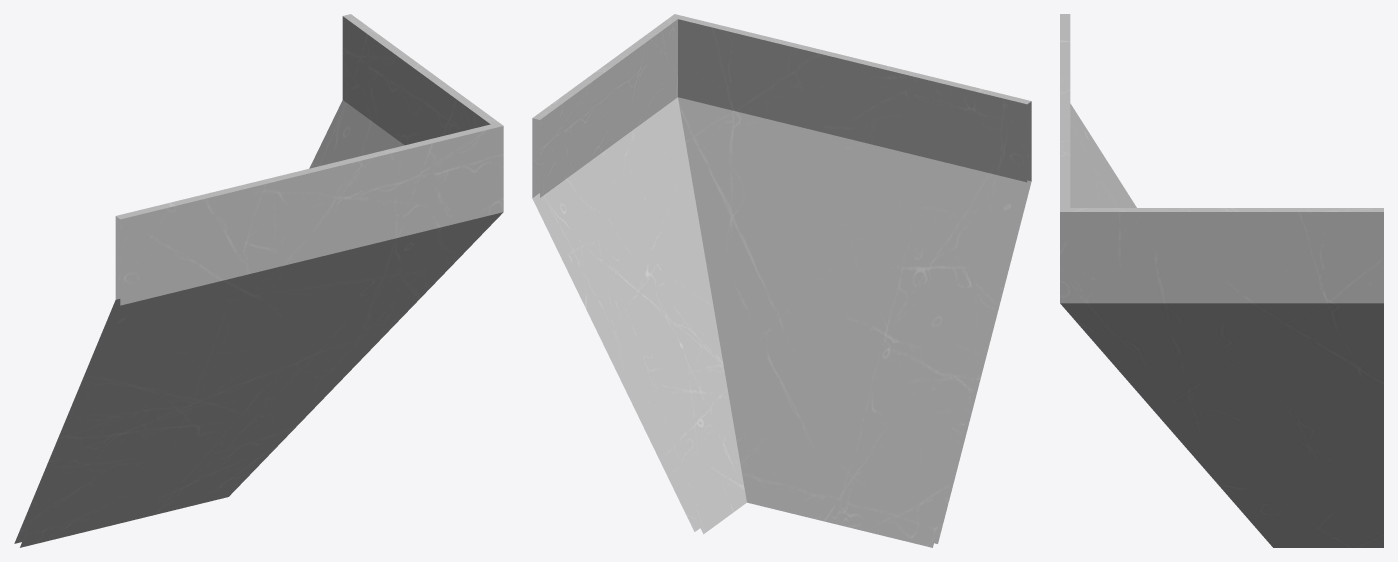
File: TightenerStation_Cube09.glb
3 views of the same model, side by side, from view 1: azimuth 30°, elevation 25°; view 2: azimuth 150°, elevation 25°; view 3: azimuth 270°, elevation 25° (orthographic). The views are drawn at different scales.
Parts seen in each view (by area): view 1: color-2.009; view 2: color-2.009; view 3: color-2.009.
Part boxes in pixels (bbox=[...]): color-2.009: bbox=[14, 14, 503, 547]; color-2.009: bbox=[532, 14, 1031, 547]; color-2.009: bbox=[1060, 14, 1383, 547].
Bounding box in the file's own units: 0.1397 × 0.14 × 0.0964.
Materials: 1 (1 with a texture image).
